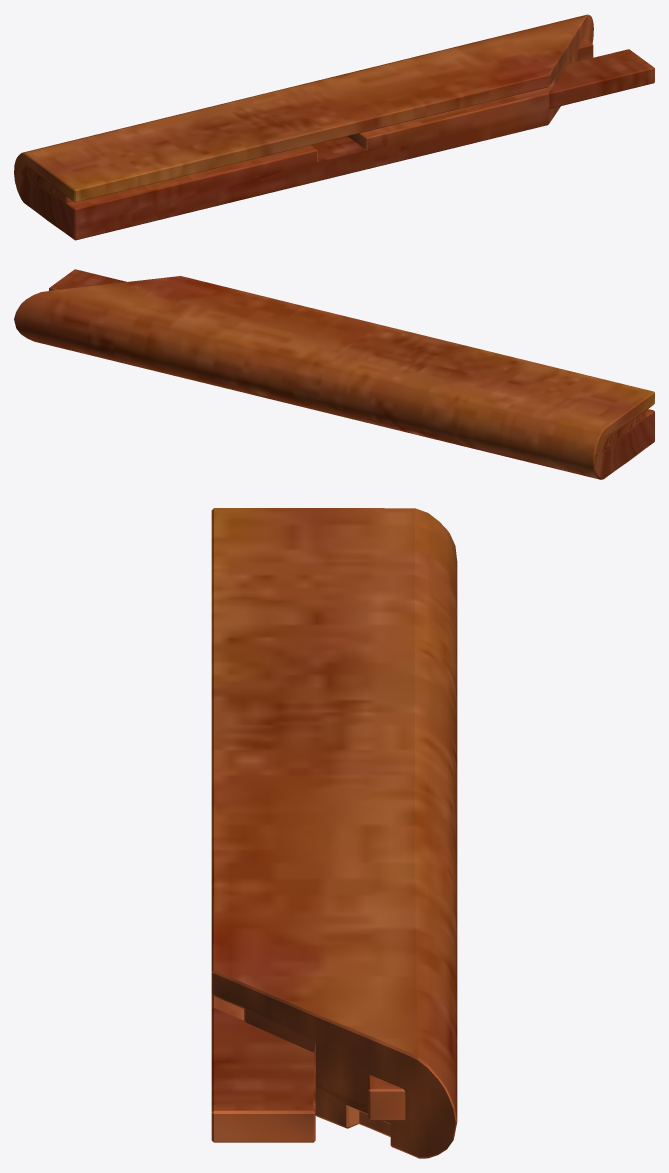
Rendered from ytsy_J_dabian_2.FBX.
3 views of the same model, one above another, from view 1: azimuth 30°, elevation 25°; view 2: azimuth 150°, elevation 25°; view 3: azimuth 270°, elevation 25° (orthographic). The views are drawn at different scales.
Visible parts, largest first — view 1: ytsy_J_dabian_2; view 2: ytsy_J_dabian_2; view 3: ytsy_J_dabian_2.
Part boxes in pixels (<box>): ytsy_J_dabian_2: <box>14,14,654,240</box>; ytsy_J_dabian_2: <box>14,269,654,479</box>; ytsy_J_dabian_2: <box>211,508,457,1158</box>.
Size of the model in its own units: 38.19 by 3.25 by 7.
